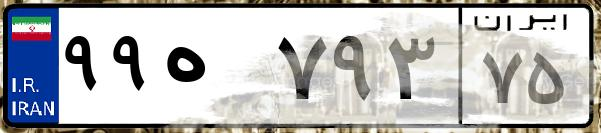3: (385, 28, 445, 110)
5: (525, 38, 570, 115)
7: (270, 28, 330, 110), (475, 38, 525, 113)
9: (330, 28, 385, 110), (57, 26, 110, 100), (110, 28, 158, 98)
ه: (158, 20, 270, 120)
